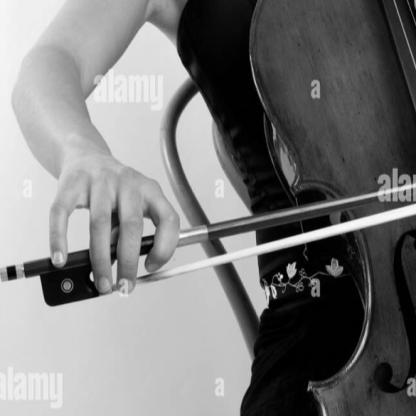bad: (36, 151, 197, 315)
